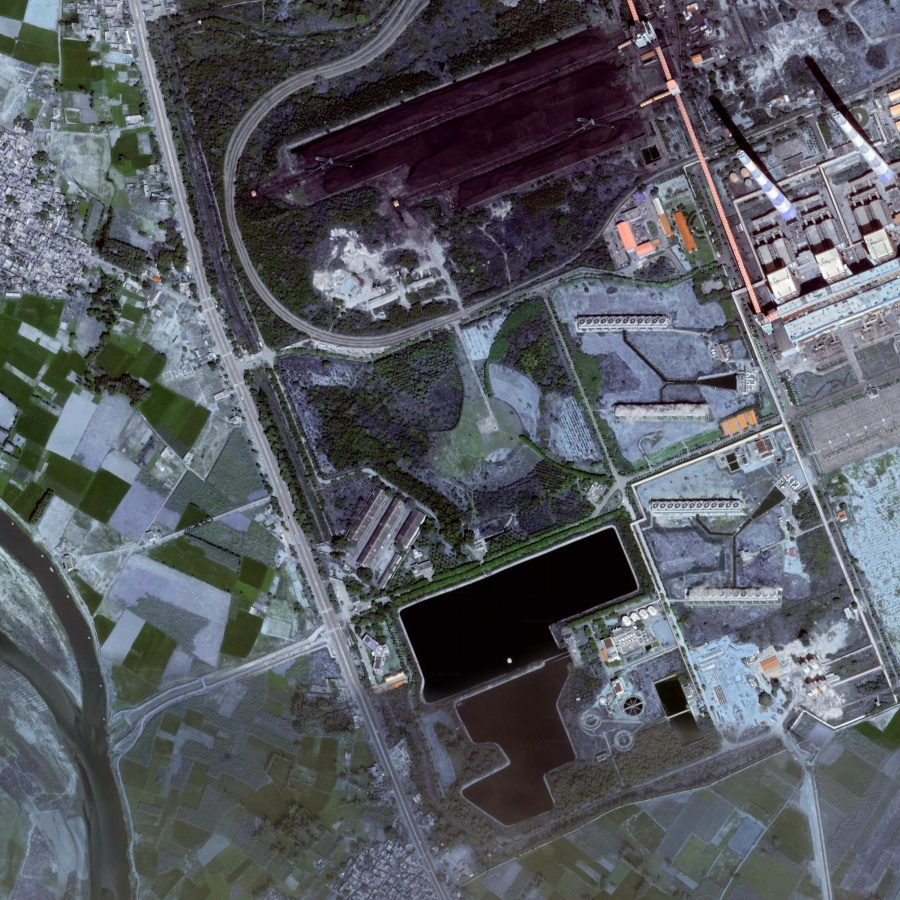PowerPlant: (379, 518, 649, 746)
